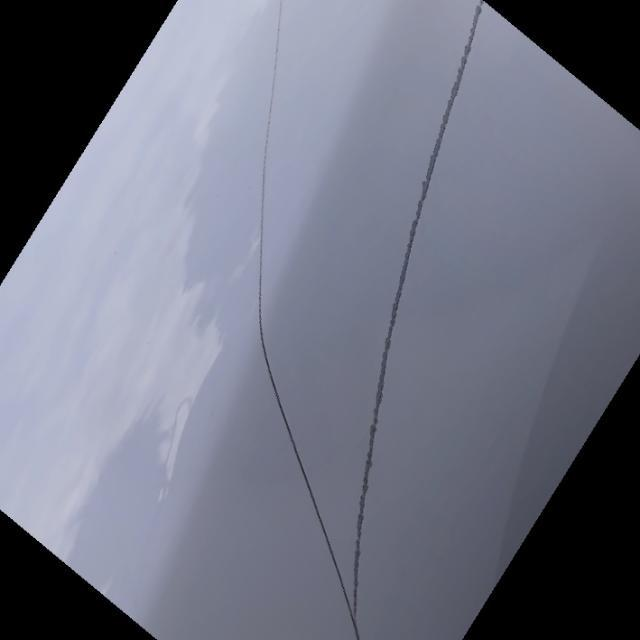crack: (362, 30, 467, 507), (240, 40, 322, 552)
